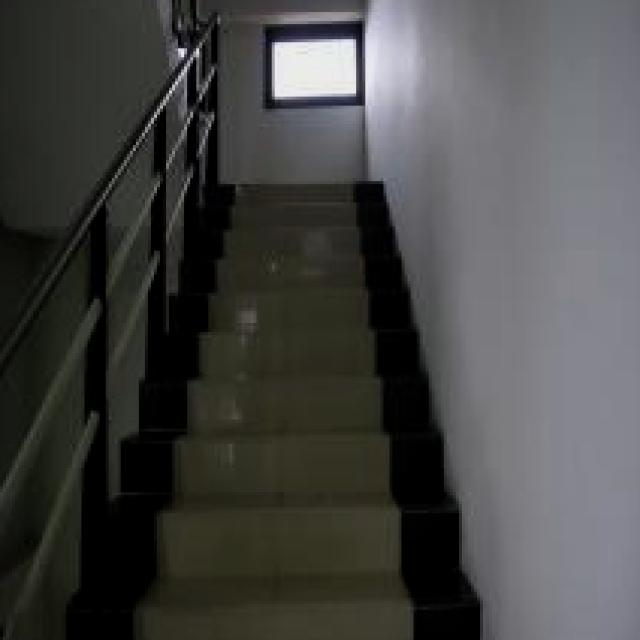upstair: (191, 245, 412, 608)
